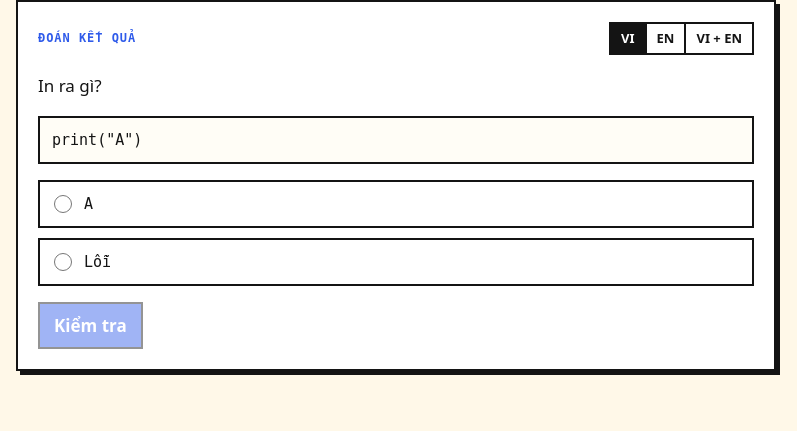
Test: QuestionCard › checks a correct answer
The width and height of the screenshot is (797, 431).
Check: the button "Kiểm tra" is disabled, box [38,302,143,349]
Click the radio button labelled "A" at (63, 204), box [54,195,72,213]
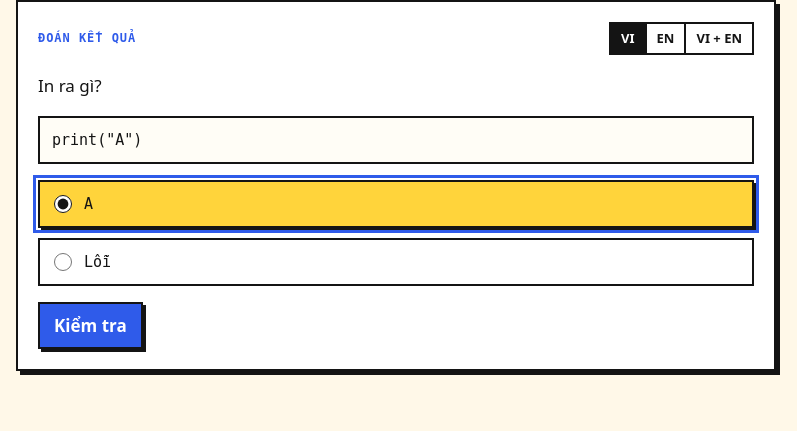
Click the button "Kiểm tra" at (90, 326), box [38,302,143,349]
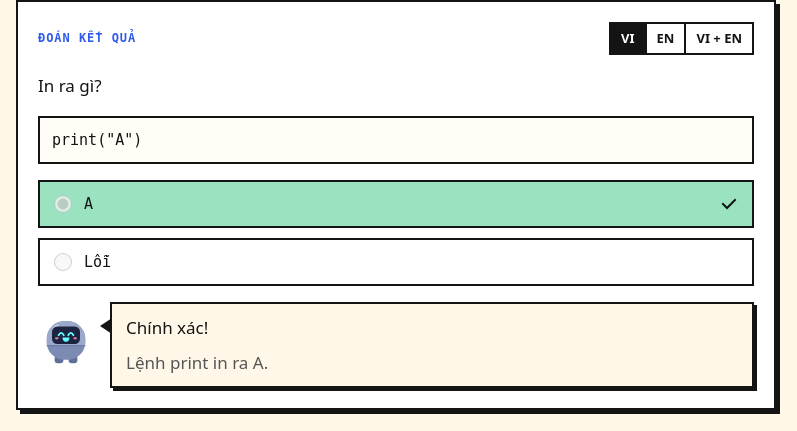
Check: the text "Chính xác!" is shown, box [126,316,208,339]
Check: the text "Lệnh print in ra A." is shown, box [126,351,268,374]
Check: the button "Kiểm tra" is gone
